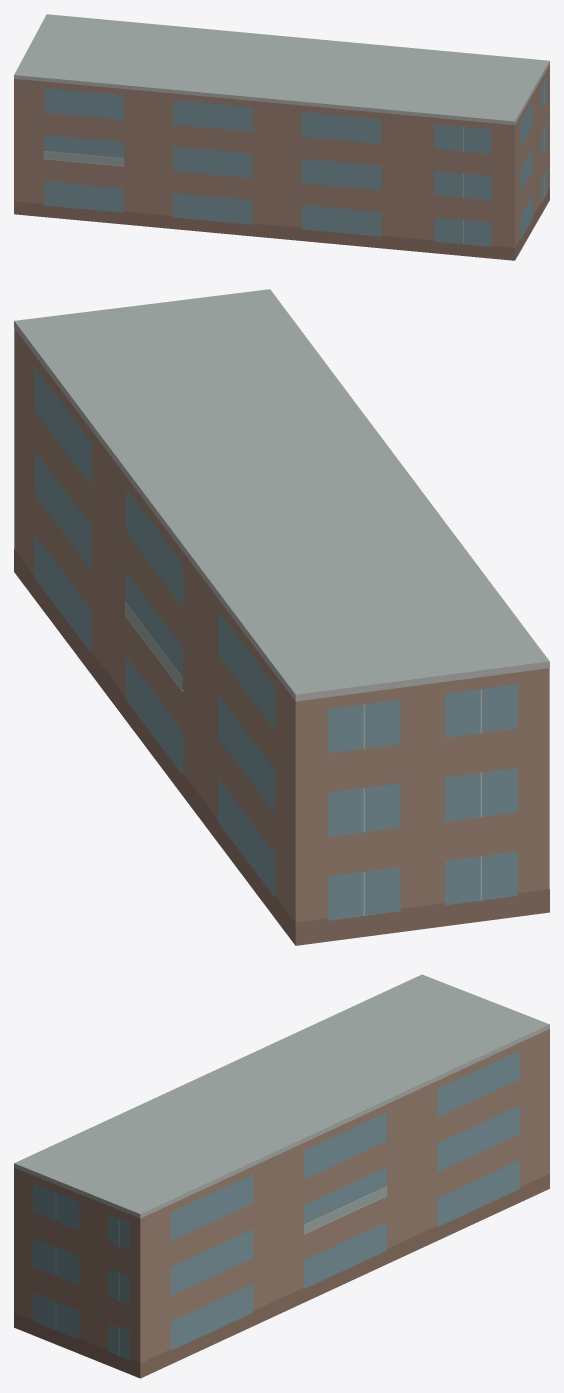
File: survey-upis-32911801.glb
3 views of the same model, one above another, from view 1: azimuth 30°, elevation 25°; view 2: azimuth 150°, elevation 25°; view 3: azimuth 270°, elevation 25° (orthographic). The views are drawn at different scales.
Parts seen in each view (by area): view 1: survey-upis-32911801.tmp; view 2: survey-upis-32911801.tmp; view 3: survey-upis-32911801.tmp.
Part boxes in pixels (x1,y1,x2,y2): survey-upis-32911801.tmp: (14,14,549,260); survey-upis-32911801.tmp: (14,289,549,945); survey-upis-32911801.tmp: (14,974,549,1378).
Size of the model in its own units: 28.65 by 9.15 by 27.05.
